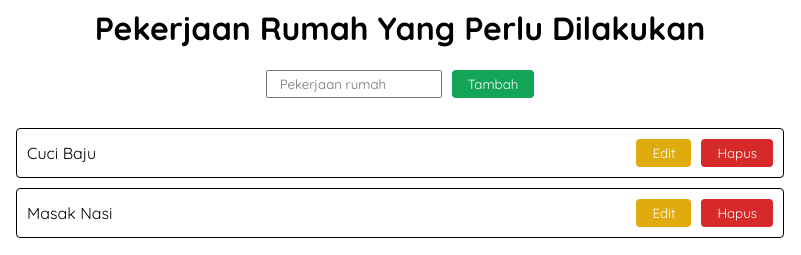
update successful
Click the 1st button "Edit" at (664, 153), box [636,139,692,167]
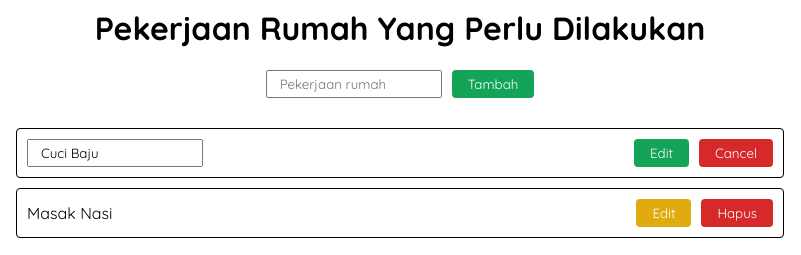
Replace the text in the 2nd field with "Perbaiki AC" at (115, 153), box [27,139,203,167]
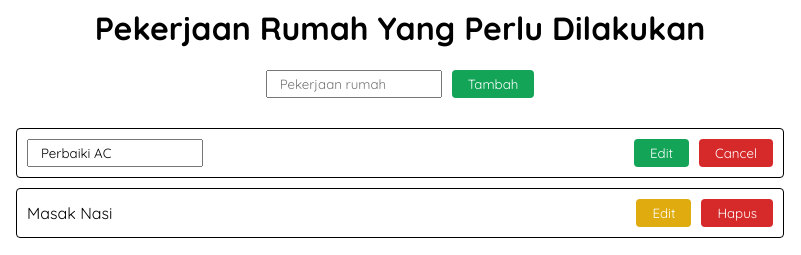
Click the 1st button "Edit" at (662, 153), box [634,139,689,167]
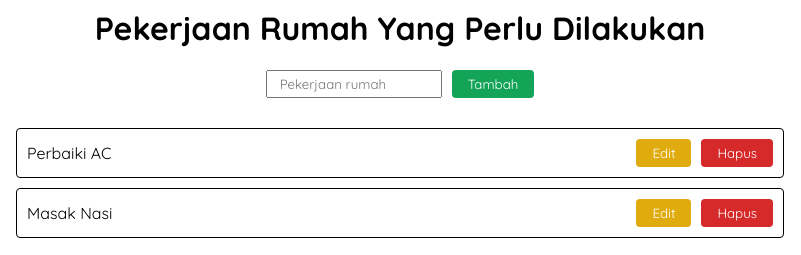
Check: the button "Perbaiki AC Edit Hapus" is shown, box [16,128,784,178]
